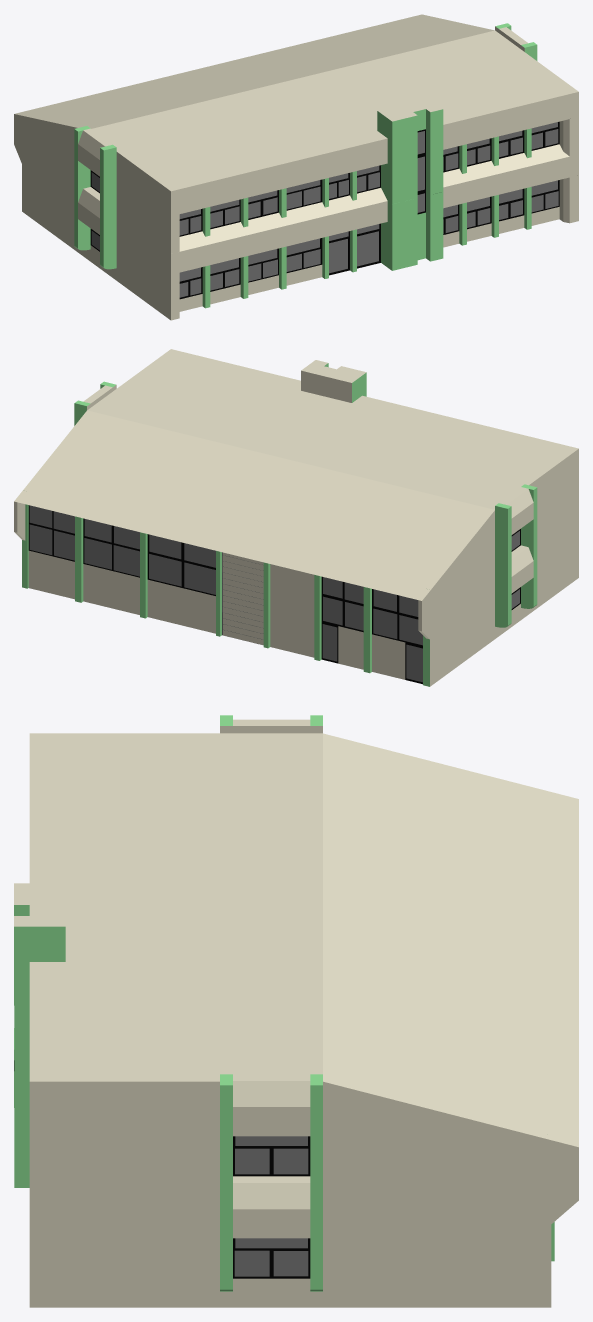
Rendered from auditorio.glb.
3 views of the same model, one above another, from view 1: azimuth 30°, elevation 25°; view 2: azimuth 150°, elevation 25°; view 3: azimuth 270°, elevation 25° (orthographic). The views are drawn at different scales.
Parts seen in each view (by area): view 1: Cube; view 2: Cube; view 3: Cube.
Part boxes in pixels (x1,y1,x2,y2): Cube: (14,14,578,320); Cube: (14,349,578,686); Cube: (14,715,578,1307).
Bounding box in the file's own units: 170 × 55.98 × 110.
